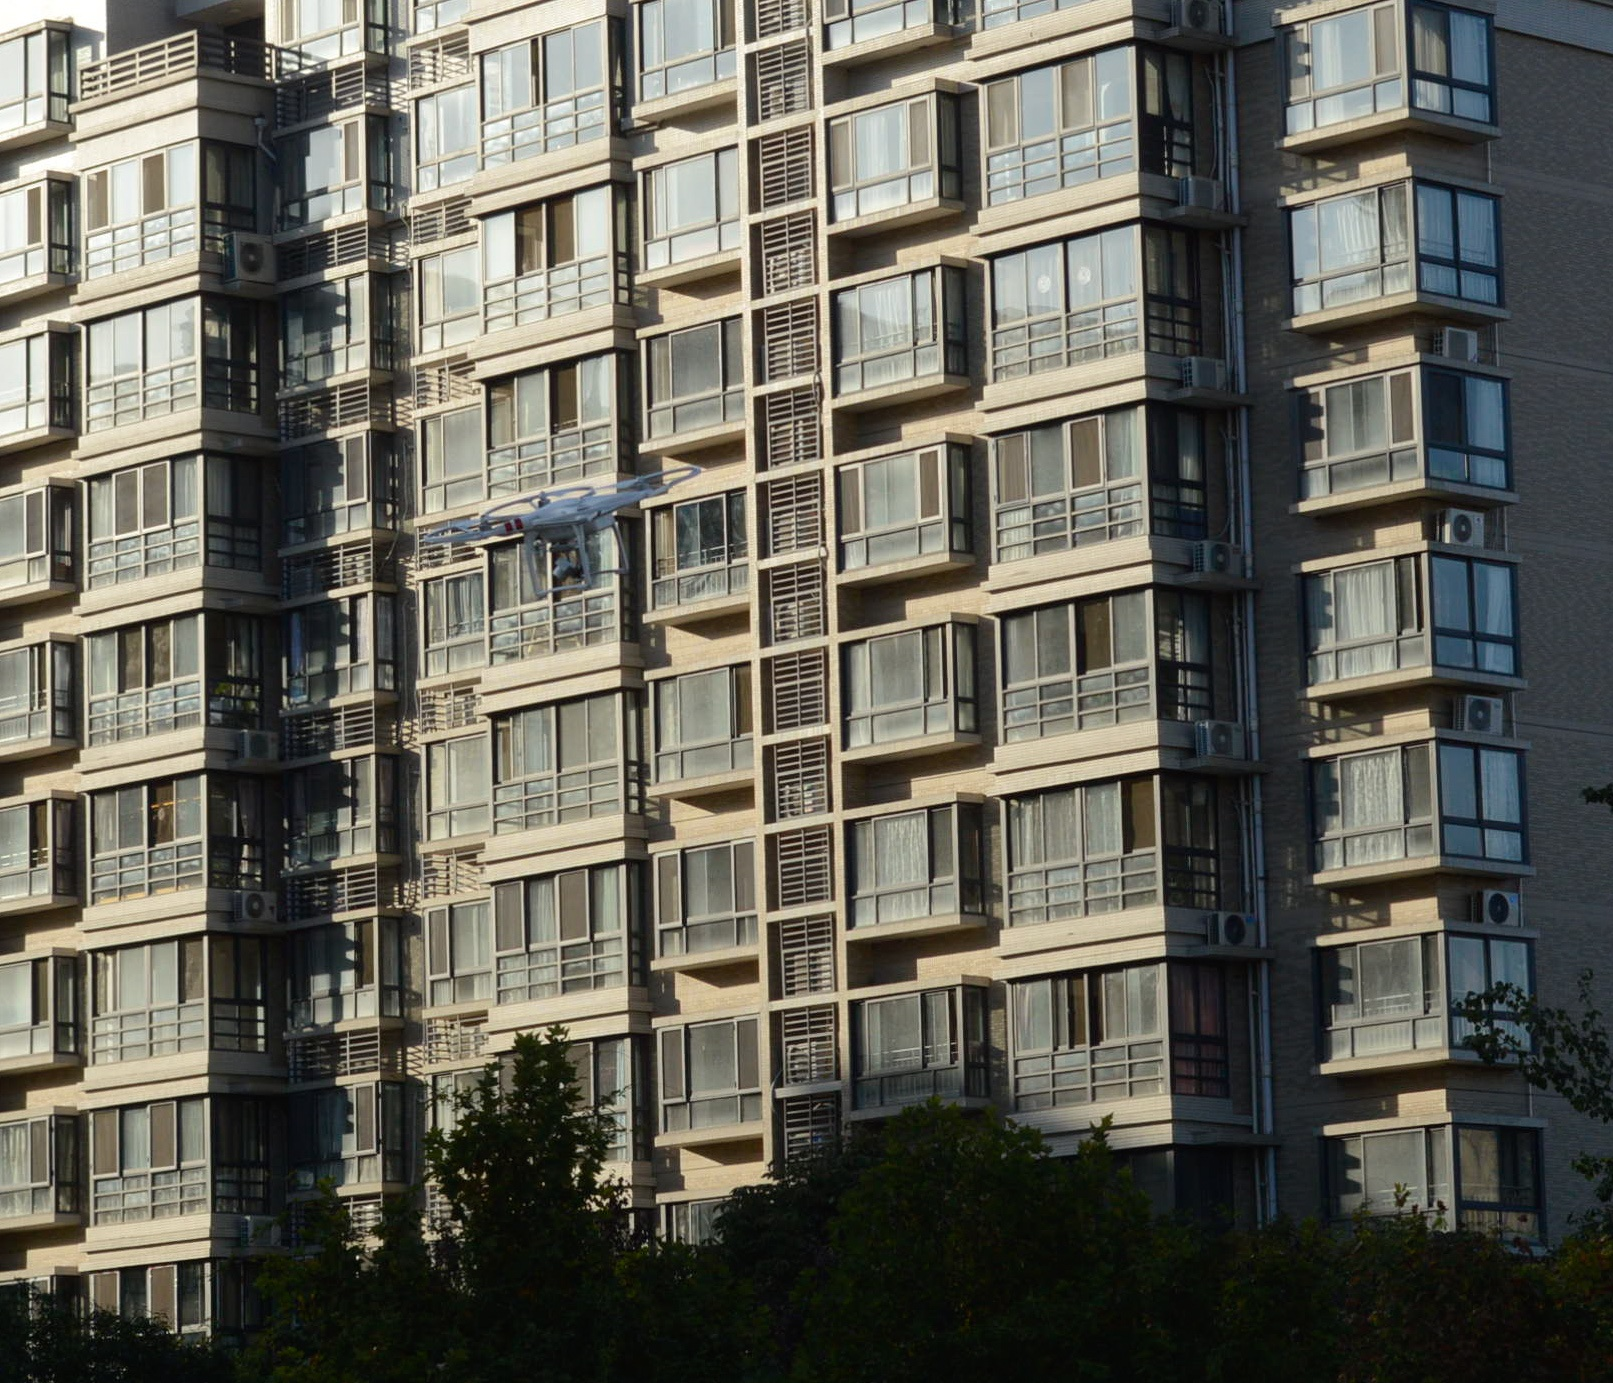DJI: (422, 468, 702, 595)
